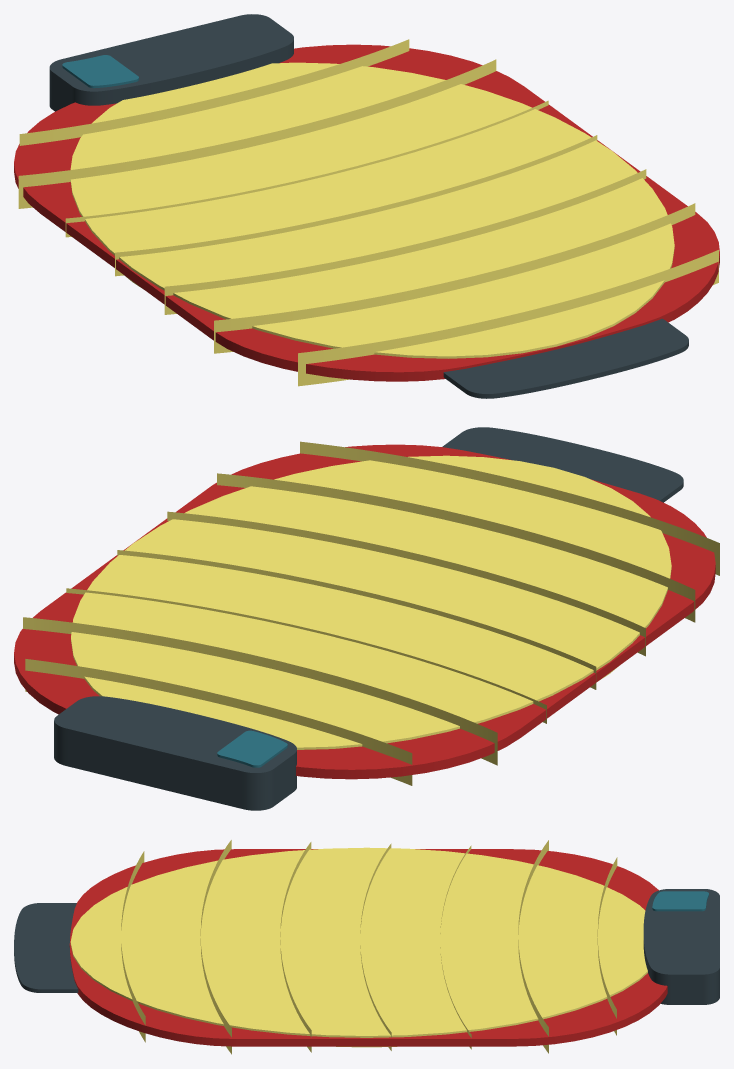
Rendered from emoji_u1f3ee.glb.
3 renders of one model, top to bottom at view 1: azimuth 30°, elevation 25°; view 2: azimuth 150°, elevation 25°; view 3: azimuth 270°, elevation 25°, orthographic. The views are drawn at different scales.
Visible parts, largest first — view 1: emoji_u1f3ee; view 2: emoji_u1f3ee; view 3: emoji_u1f3ee.
Part boxes in pixels (<box>): emoji_u1f3ee: <box>14,14,719,398</box>; emoji_u1f3ee: <box>14,427,719,810</box>; emoji_u1f3ee: <box>14,840,719,1054</box>.
Bounding box in the file's own units: 0.0214 × 0.0018 × 0.0336.
